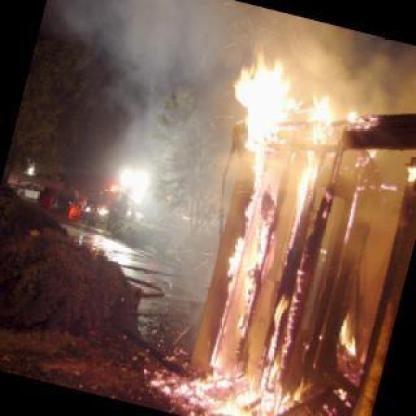Fire: (150, 249, 357, 416), (233, 69, 365, 238)
Smoke: (78, 0, 225, 238)
